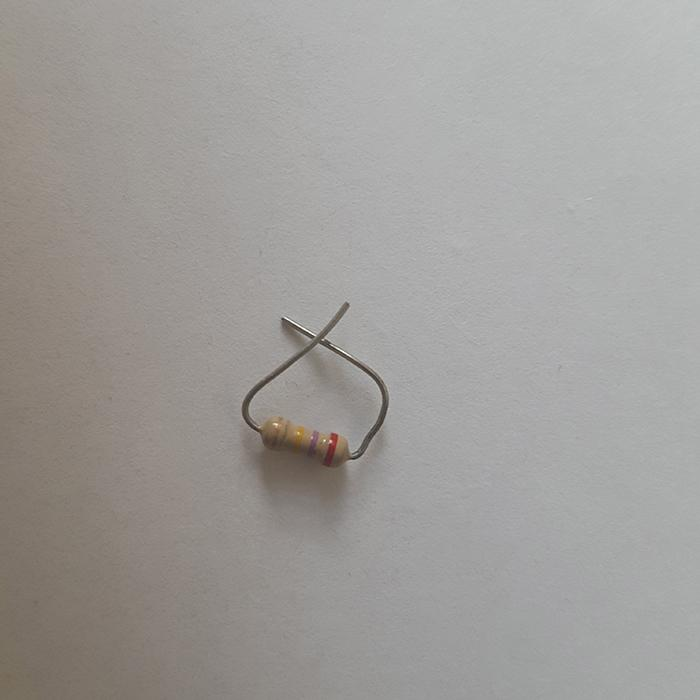resistor: (257, 415, 350, 467)
